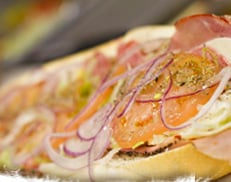soup: (39, 11, 231, 161)
